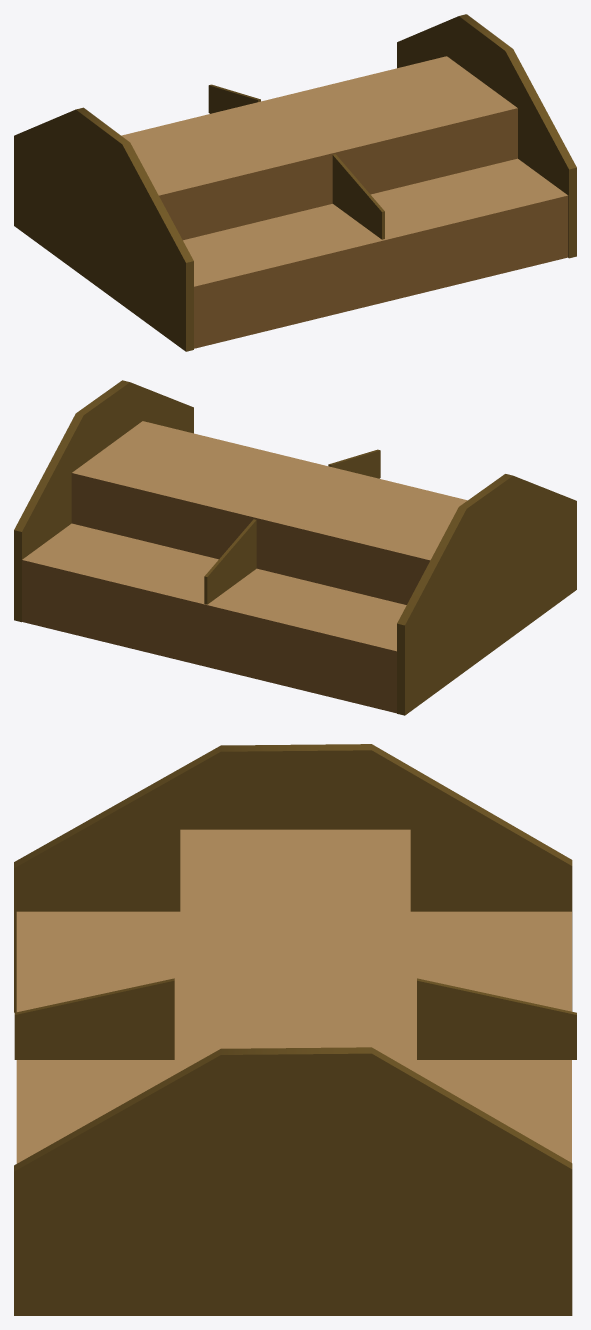
File: tana_A1.fbx
3 views of the same model, one above another, from view 1: azimuth 30°, elevation 25°; view 2: azimuth 150°, elevation 25°; view 3: azimuth 270°, elevation 25° (orthographic). The views are drawn at different scales.
Parts seen in each view (by area): view 1: tana_A, ita2, ita3; view 2: tana_A, ita3, ita2; view 3: tana_A, ita2, ita3.
Part boxes in pixels (box(x1,y1,x2,y2)): tana_A: box(14, 14, 576, 351); ita2: box(332, 154, 384, 239); ita3: box(208, 84, 260, 113); tana_A: box(14, 380, 576, 715); ita3: box(204, 519, 256, 604); ita2: box(328, 449, 380, 478); tana_A: box(14, 744, 572, 1315); ita2: box(14, 978, 174, 1059); ita3: box(417, 978, 576, 1059).
Size of the model in its own units: 396 by 156 by 304.
Materials: 2 (1 with a texture image).
